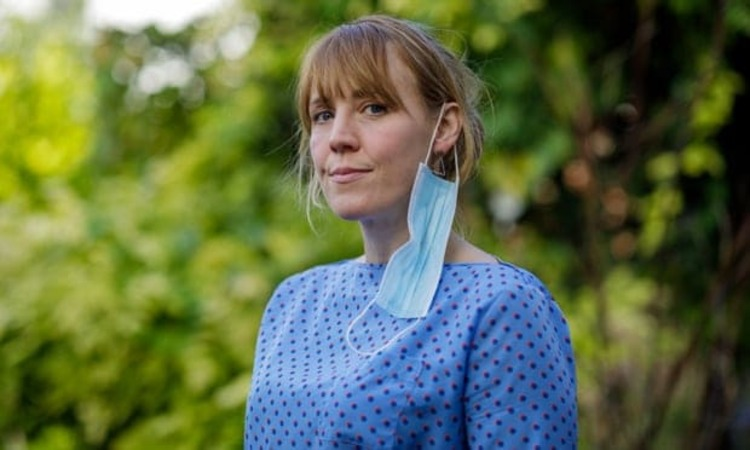without_mask: (302, 80, 429, 220)
